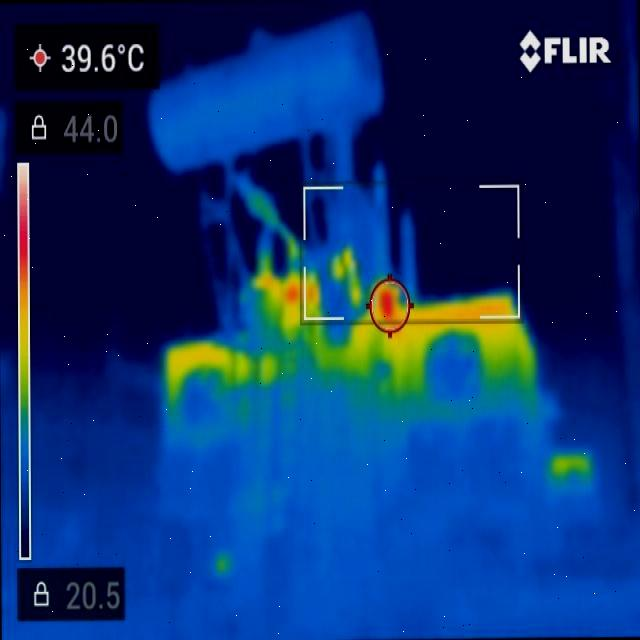loose_joint_red: (283, 271, 301, 327), (373, 286, 400, 311), (307, 271, 321, 315)
loose_joint_yellow: (252, 255, 280, 323)
point_overload_yellow: (289, 237, 298, 256)
